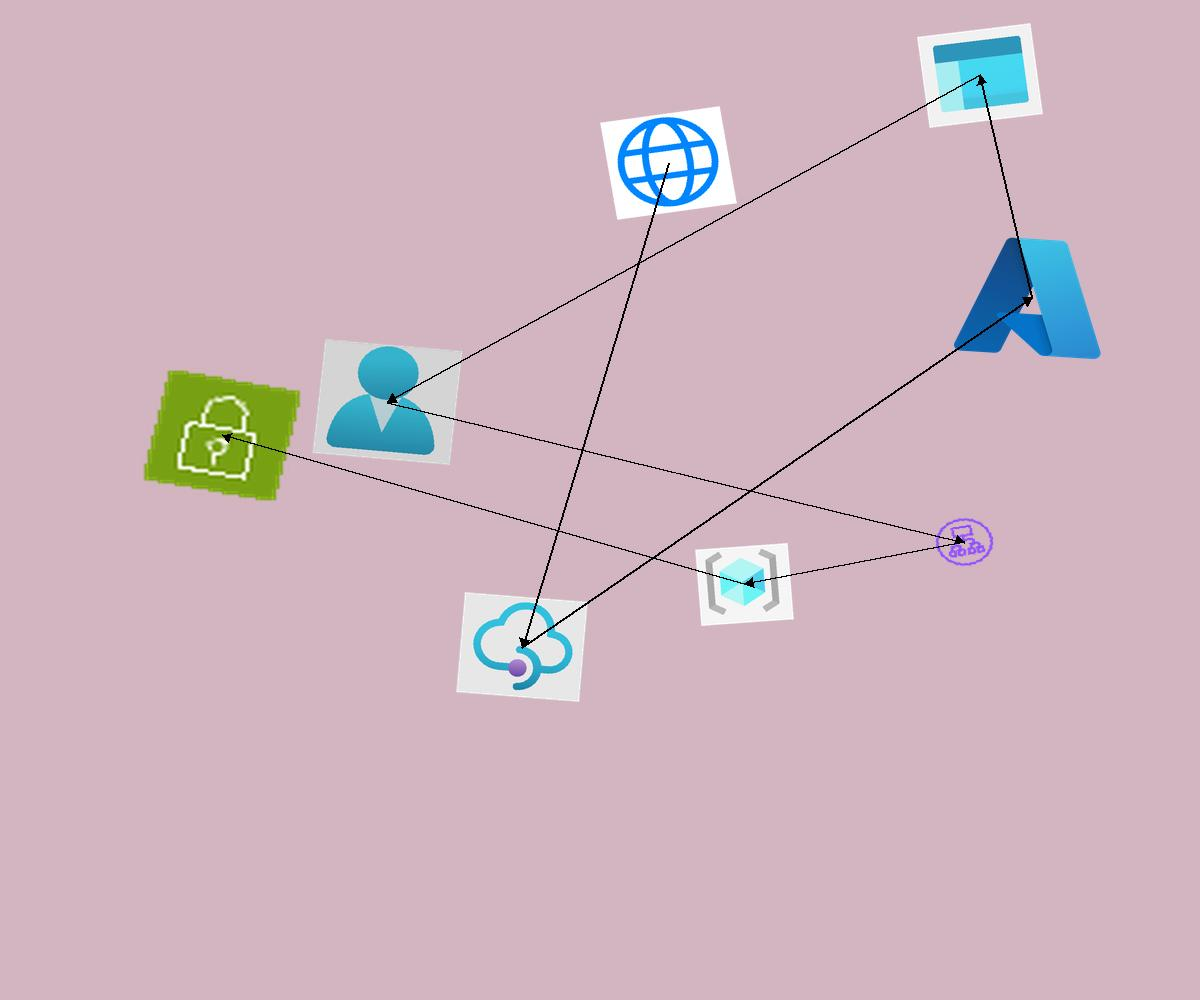AWS-Public-subnet: (141, 368, 303, 503)
AWS-Res_Elastic-Load-Balancing_Application-Load-Balancer: (927, 511, 1002, 573)
Azure_api_gateway: (456, 592, 588, 702)
Azure_http: (600, 106, 737, 220)
Azure_management-portal: (917, 23, 1043, 128)
Azure_resource_group: (695, 543, 794, 626)
Azure_services: (946, 225, 1118, 369)
Azure_users: (312, 339, 463, 465)
